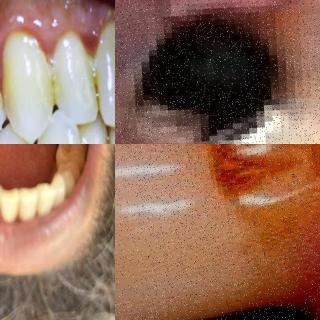Gum Swelling: (21, 14, 71, 51), (0, 15, 21, 91)
cavities: (158, 144, 320, 303), (139, 0, 306, 144)
maligned: (54, 37, 98, 117), (40, 110, 80, 144)
plaque: (87, 66, 106, 113), (38, 68, 61, 104)
stains: (0, 57, 18, 113), (101, 130, 115, 144)
